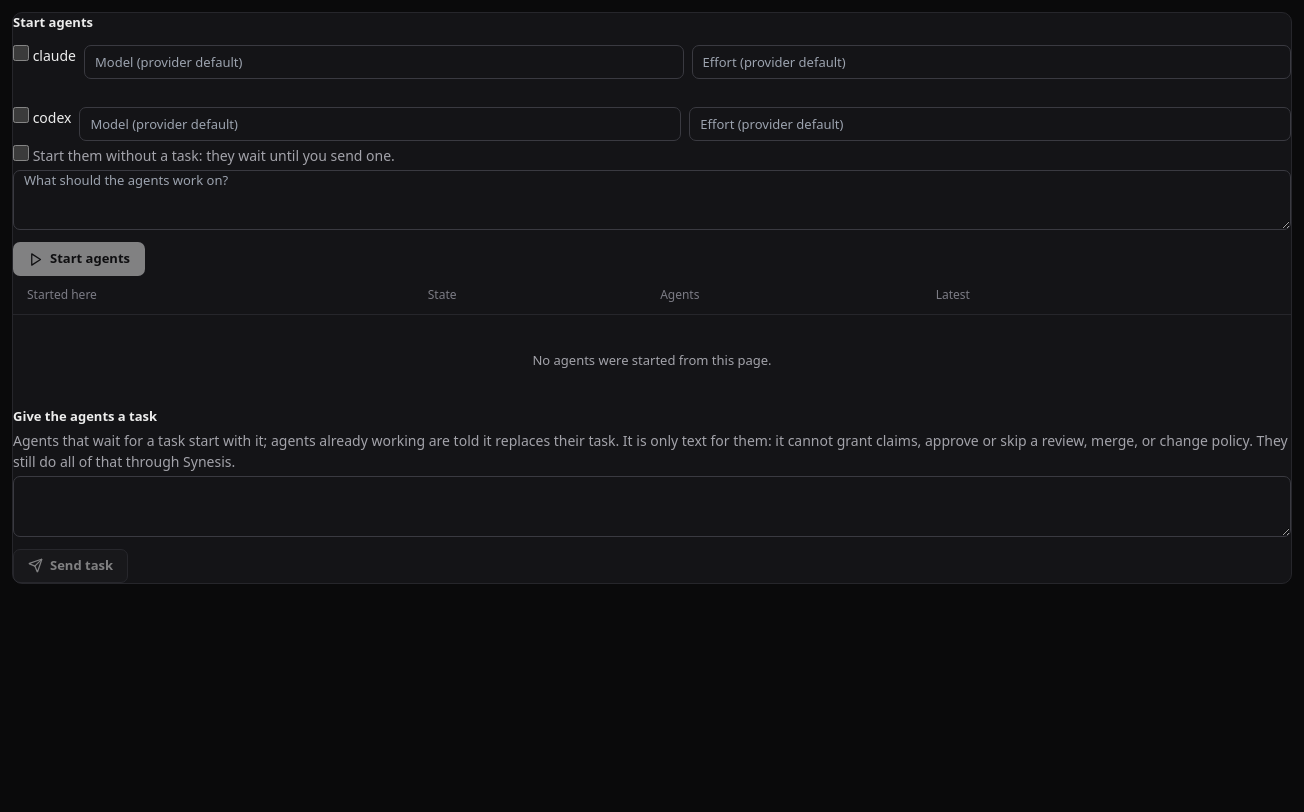
Test: starting agents from the page › offers only the providers installed in the project and starts the ones picked with their model and effort and the task
Expected: the button "Start agents" is disabled, top-left (13, 242), bottom-right (145, 276)
Click the checkbox labelled "claude" at (21, 52), box top-left (13, 44), bottom-right (29, 60)
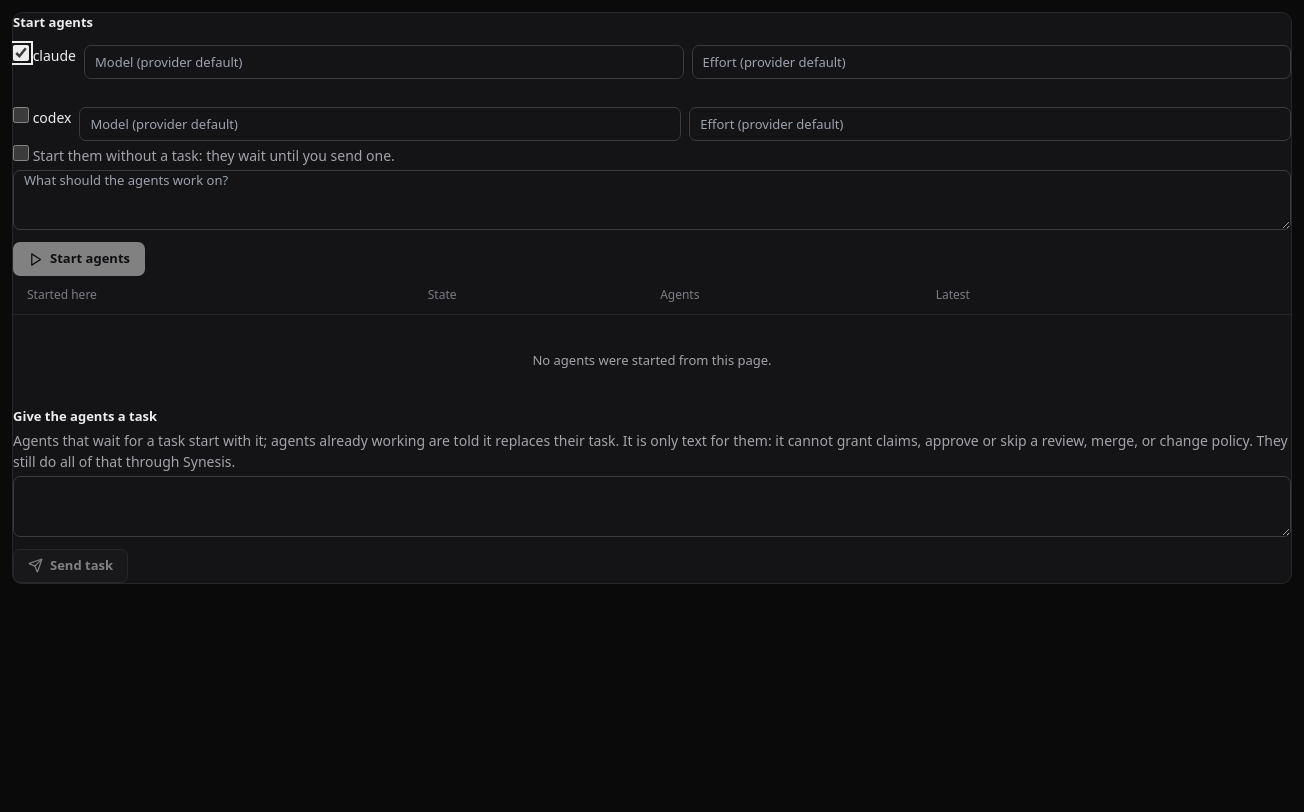
Type "sonnet" into the field named "Model for claude" at (384, 62), box top-left (84, 44), bottom-right (684, 78)
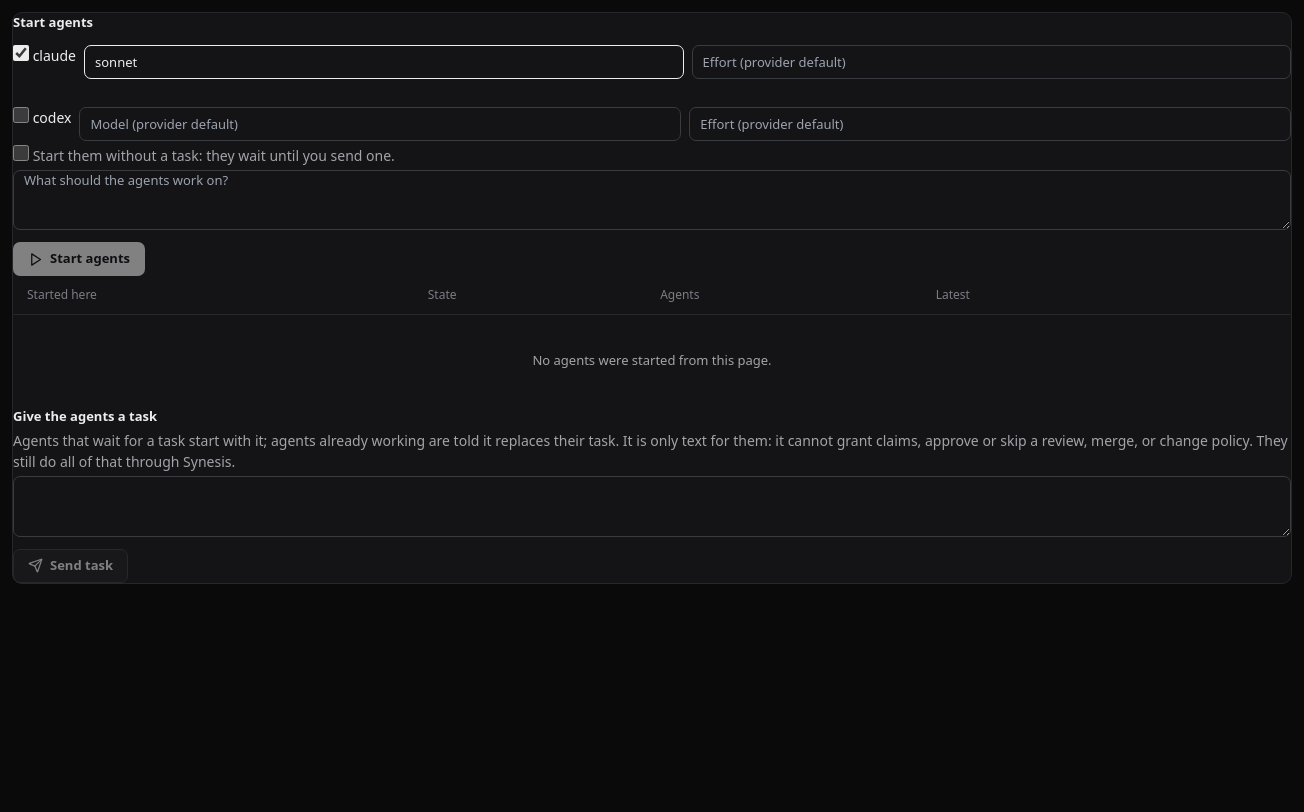
Type "medium" into the field named "Effort for claude" at (991, 62), box top-left (692, 44), bottom-right (1291, 78)
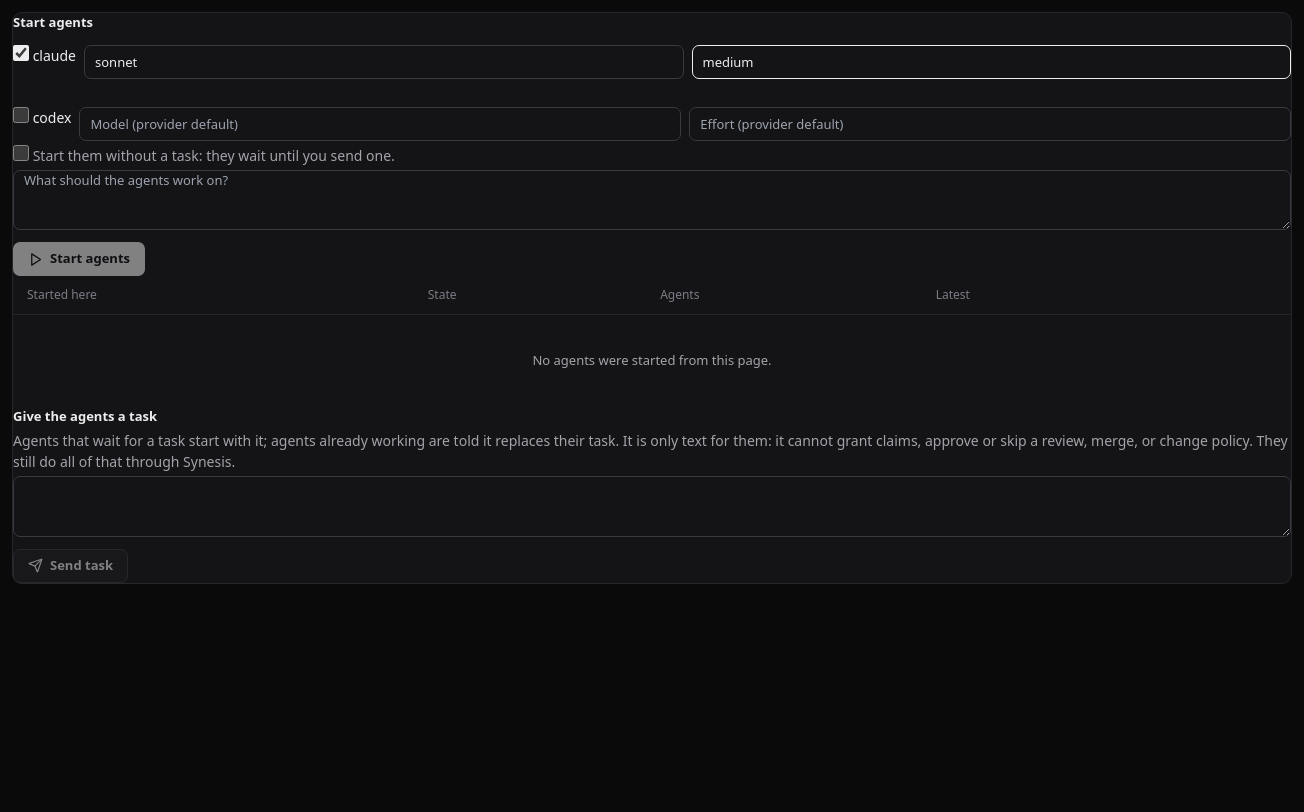
Expected: the button "Start agents" is disabled, top-left (13, 242), bottom-right (145, 276)
Type "  Implement X " into the text box named "Task for the agents" at (652, 200), box top-left (13, 170), bottom-right (1291, 230)
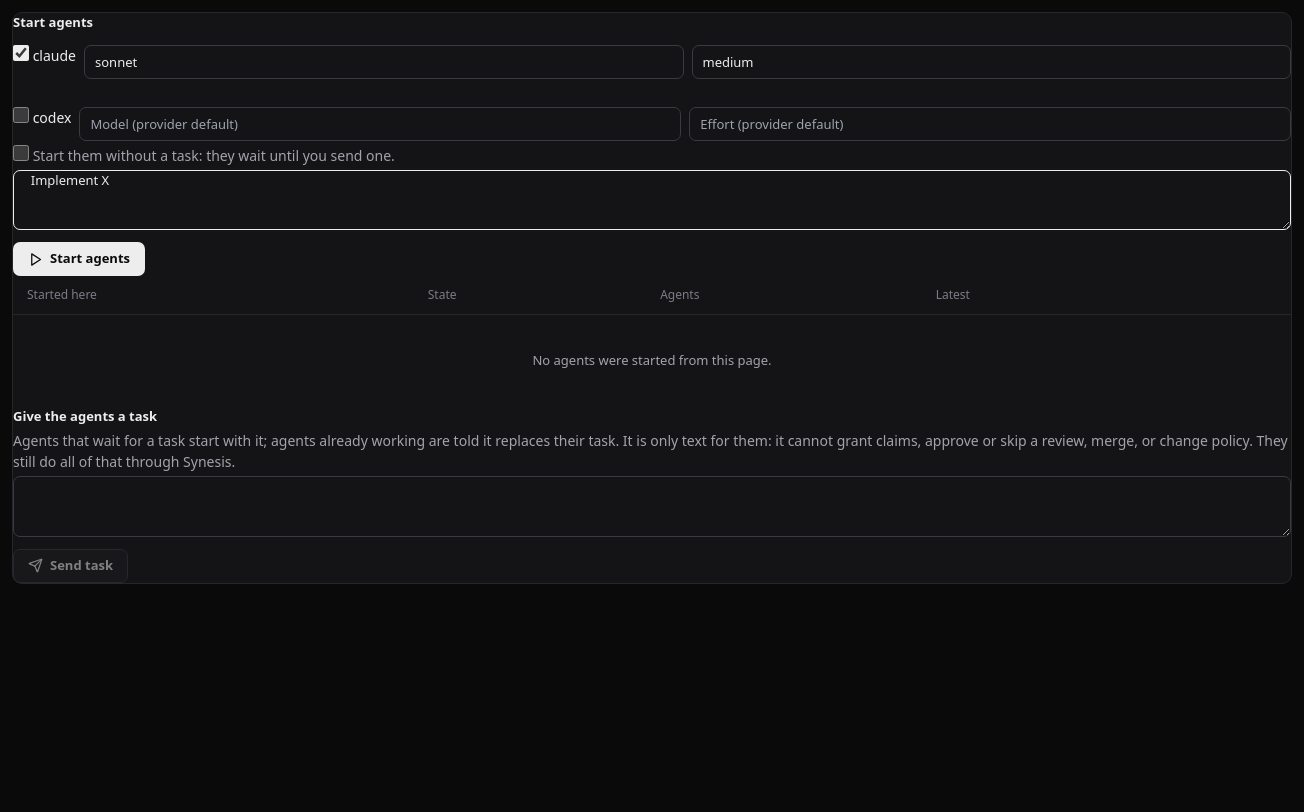
Click the button "Start agents" at (79, 259), box top-left (13, 242), bottom-right (145, 276)
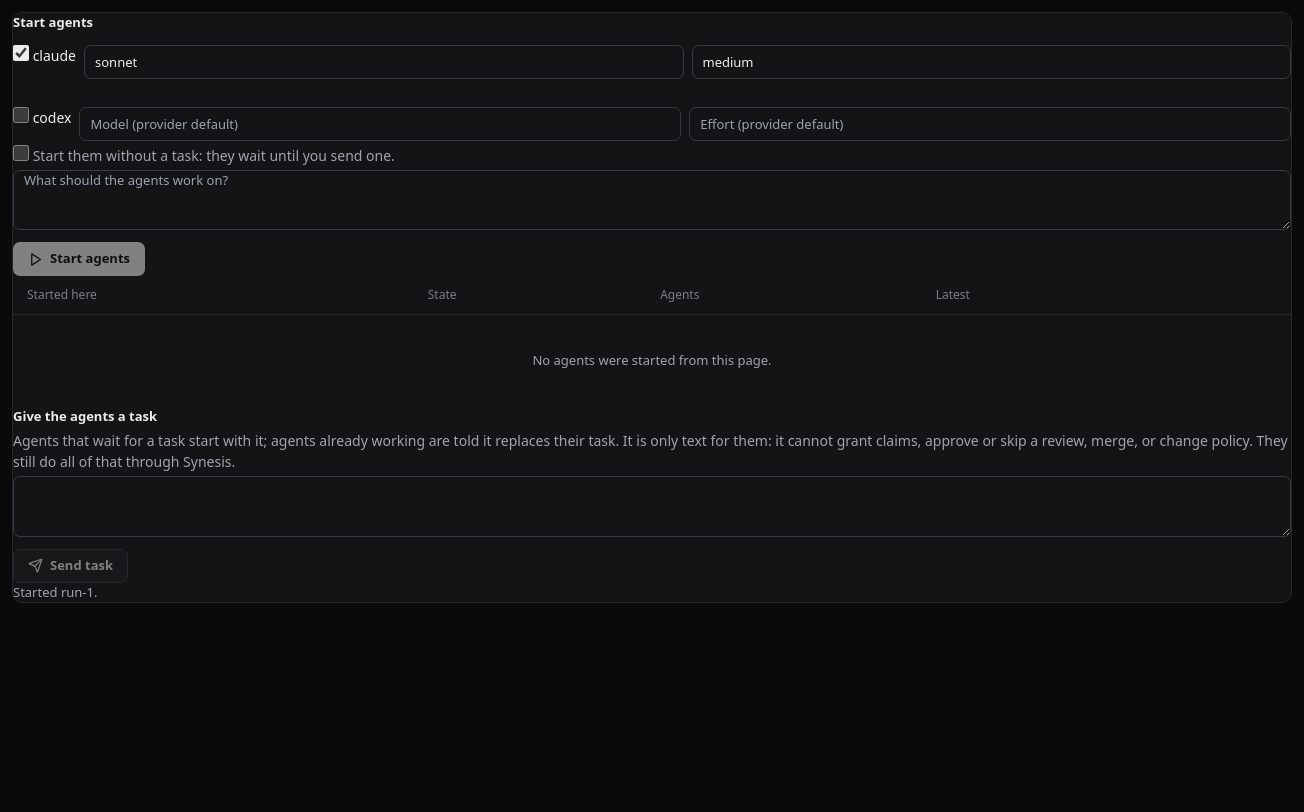
Expected: the message reads "Started run-1.", top-left (13, 582), bottom-right (97, 600)
